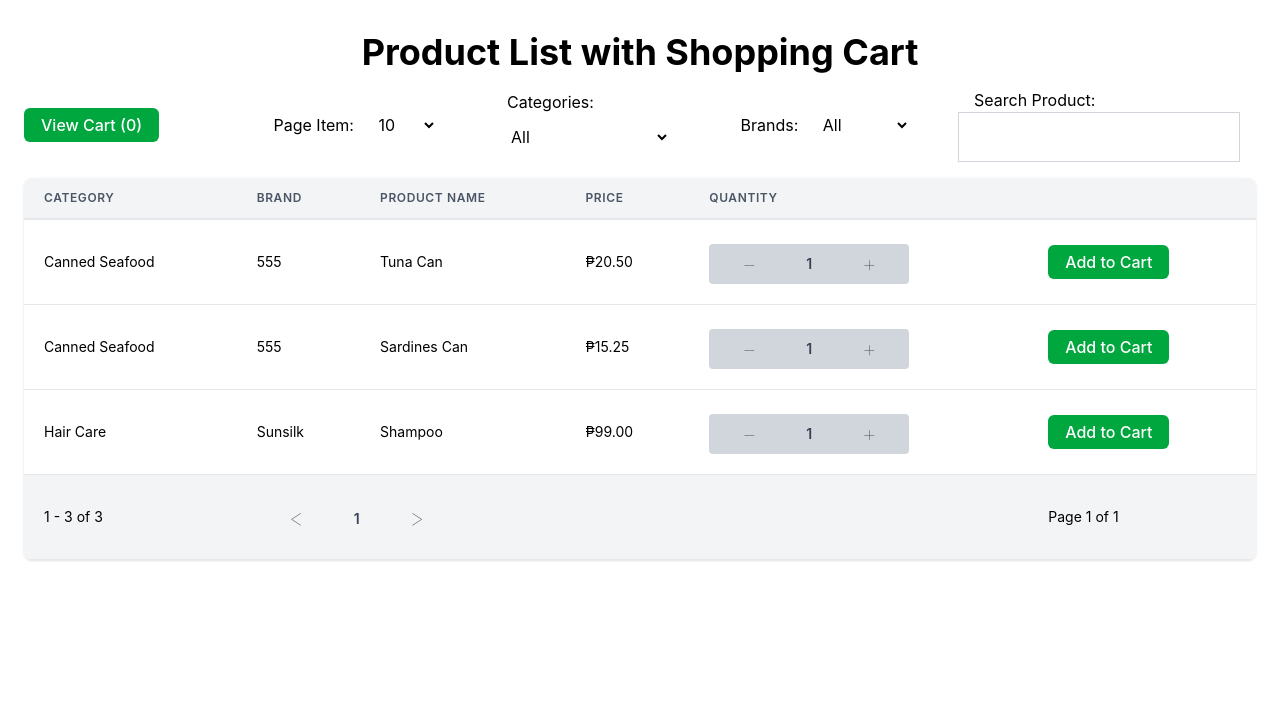
Test case: adds items to the cart, merges quantities and persists them
This screenshot has width=1280, height=720.
Click the button named "Increase quantity" at (869, 264), box [829,244,909,284]
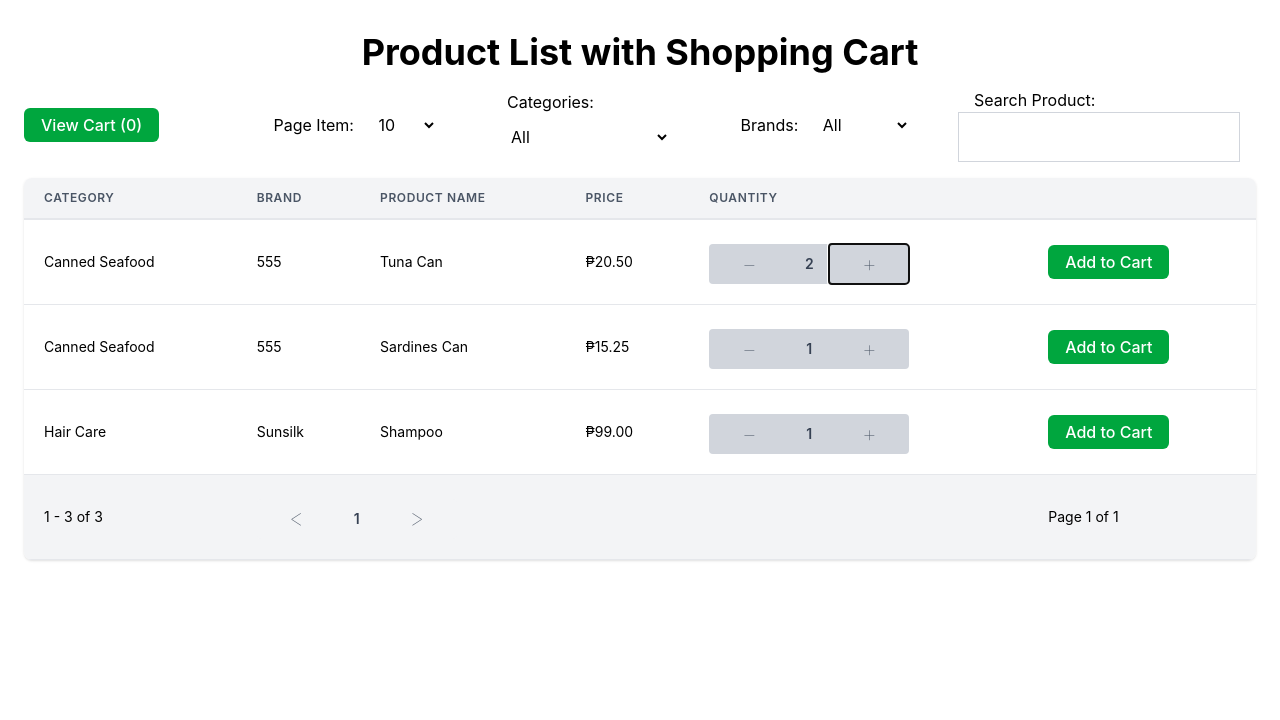
Click the button "Add to Cart" in the row of "Tuna Can" at (1109, 262), box [1048,245,1170,279]
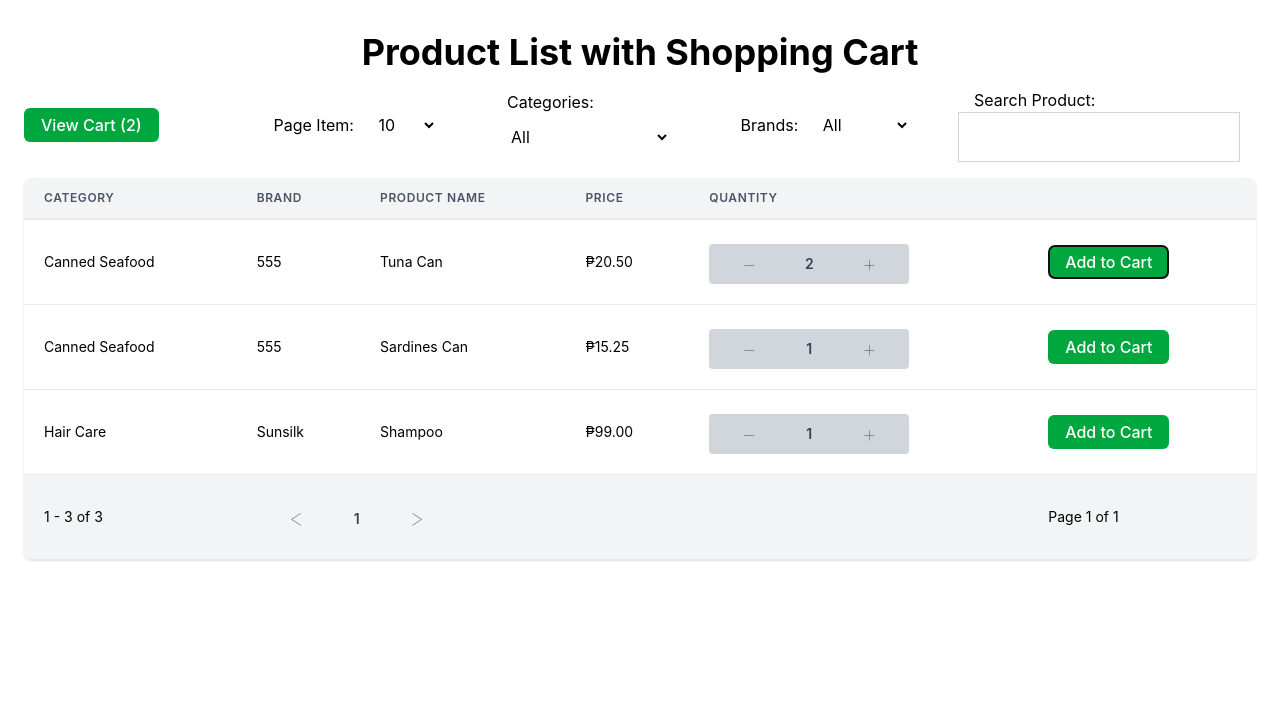
Click the button "Add to Cart" in the row of "Tuna Can" at (1109, 262), box [1048,245,1170,279]
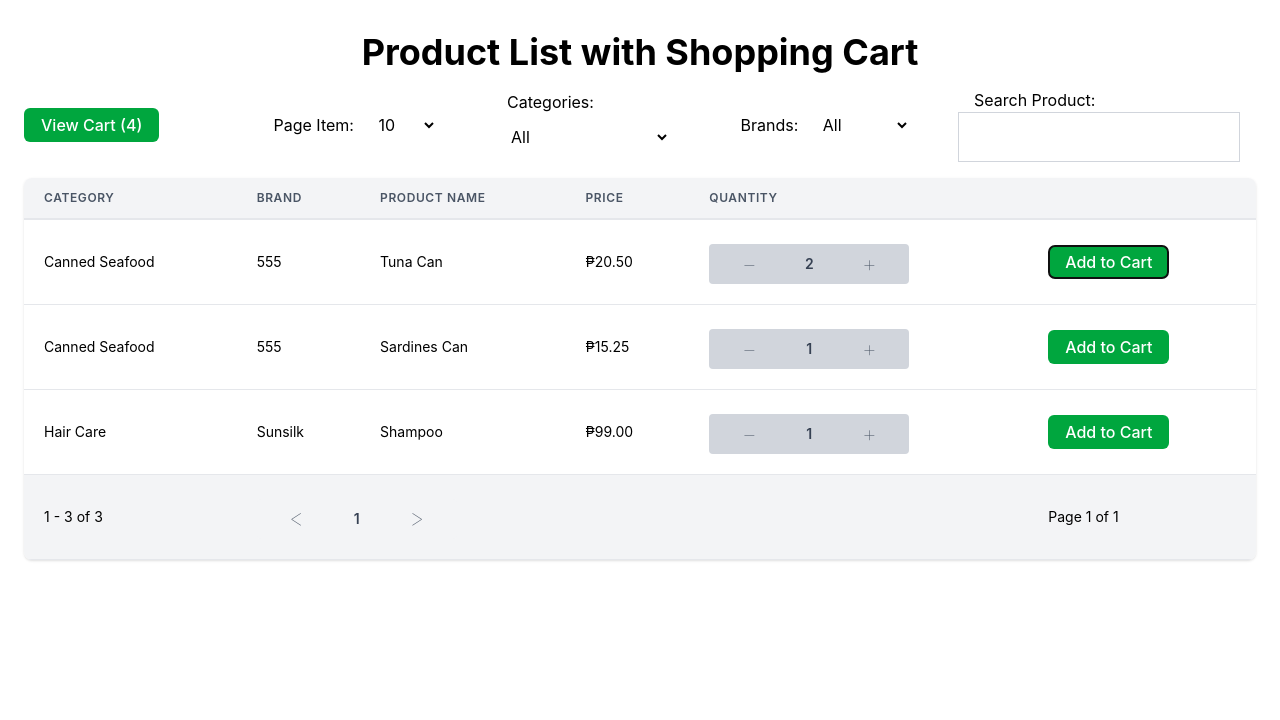
Expected: the button "View Cart (4)" is shown
Click the button "View Cart (4)" at (92, 125), box [24,108,159,142]
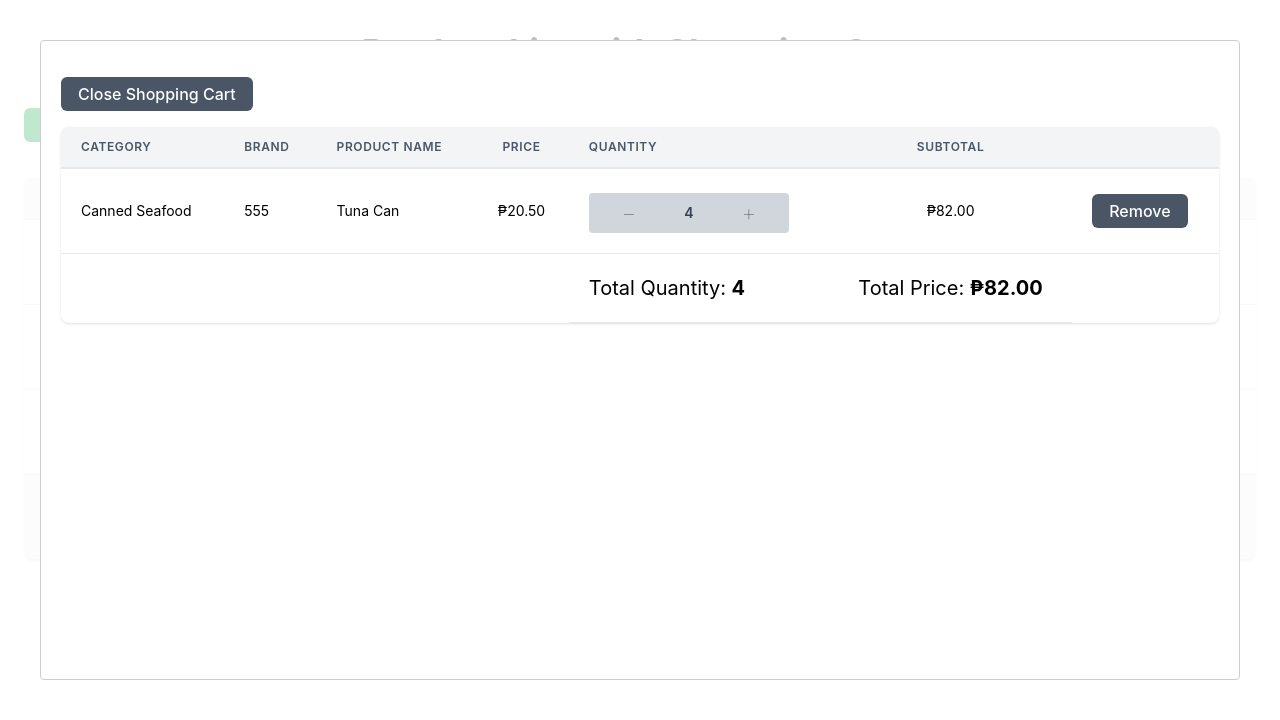
Expected: the text "₱82.00" is shown 2 times, [829,168,1072,254]; [970,276,1043,300]
